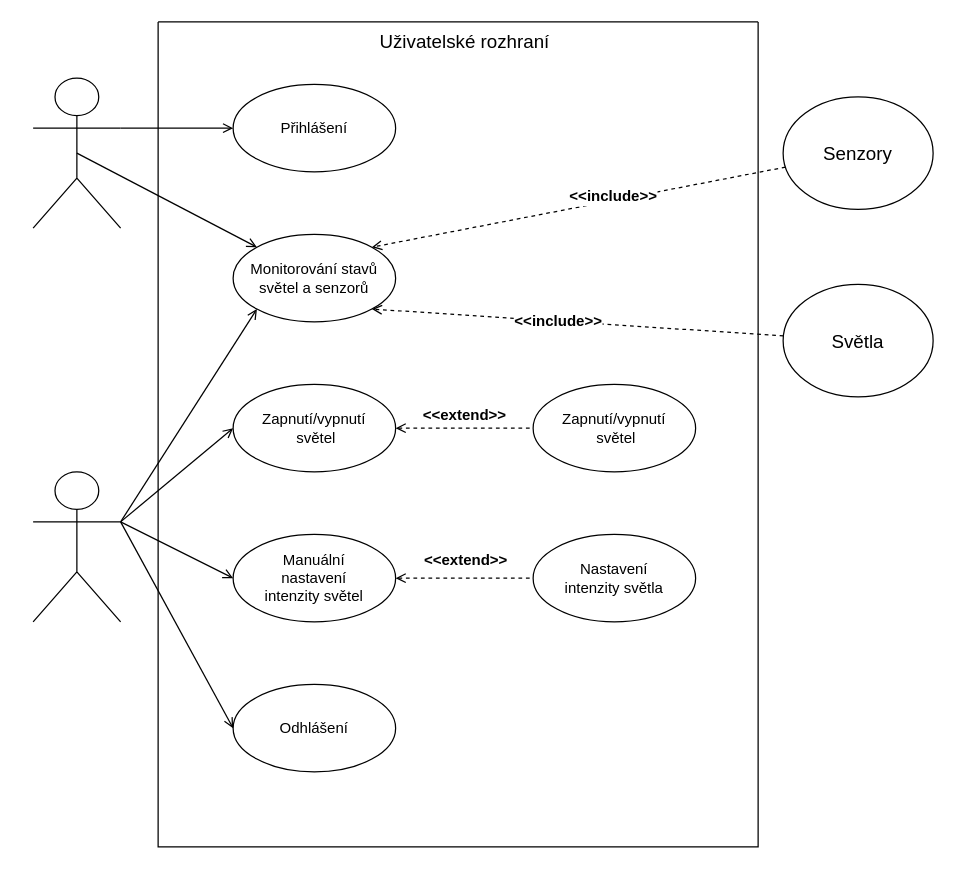
The diagram is 955 pixels wide and 869 high, and some of its shapes have lost their labels. Each missing label, with the box of its shape:
Administrátor: (32, 471, 121, 622)
Uživatel: (32, 77, 121, 228)
